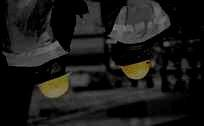helmet: (35, 60, 71, 99), (117, 47, 151, 80)
